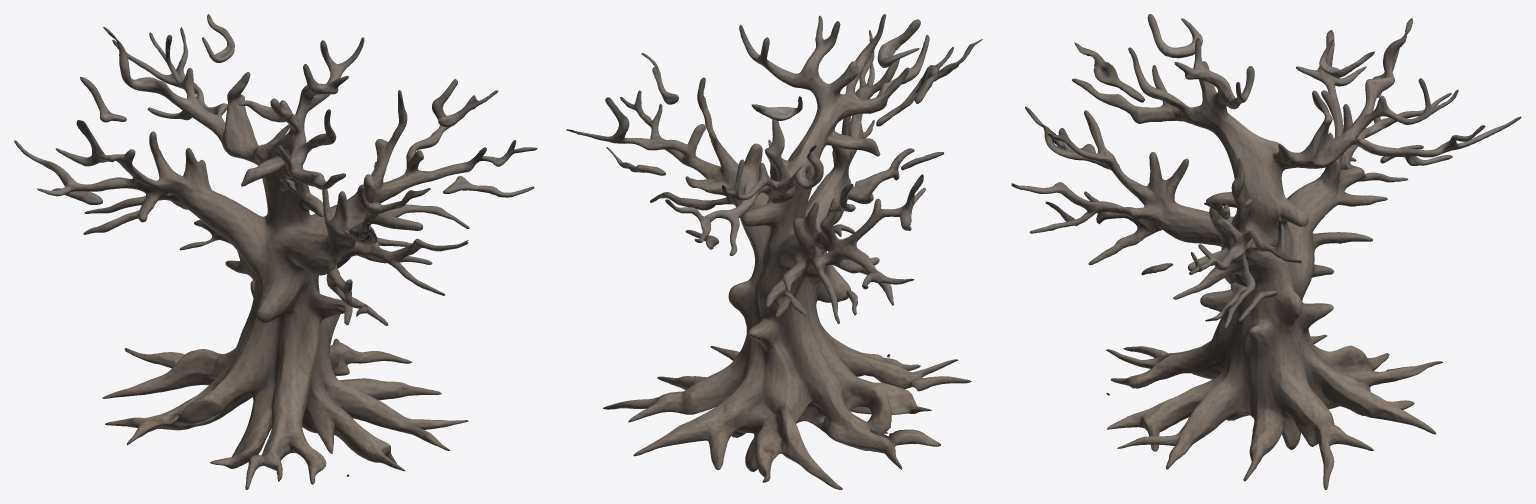
The model's file is trees_dead.glb.
3 views of the same model, side by side, from view 1: azimuth 30°, elevation 25°; view 2: azimuth 150°, elevation 25°; view 3: azimuth 270°, elevation 25° (orthographic). The views are drawn at different scales.
Parts seen in each view (by area): view 1: world; view 2: world; view 3: world.
Part boxes in pixels (x1=…): world: x1=14, y1=14, x2=537, y2=489; world: x1=566, y1=14, x2=982, y2=489; world: x1=1011, y1=14, x2=1521, y2=489.
Size of the model in its own units: 0.8758 by 0.8317 by 0.9992.
